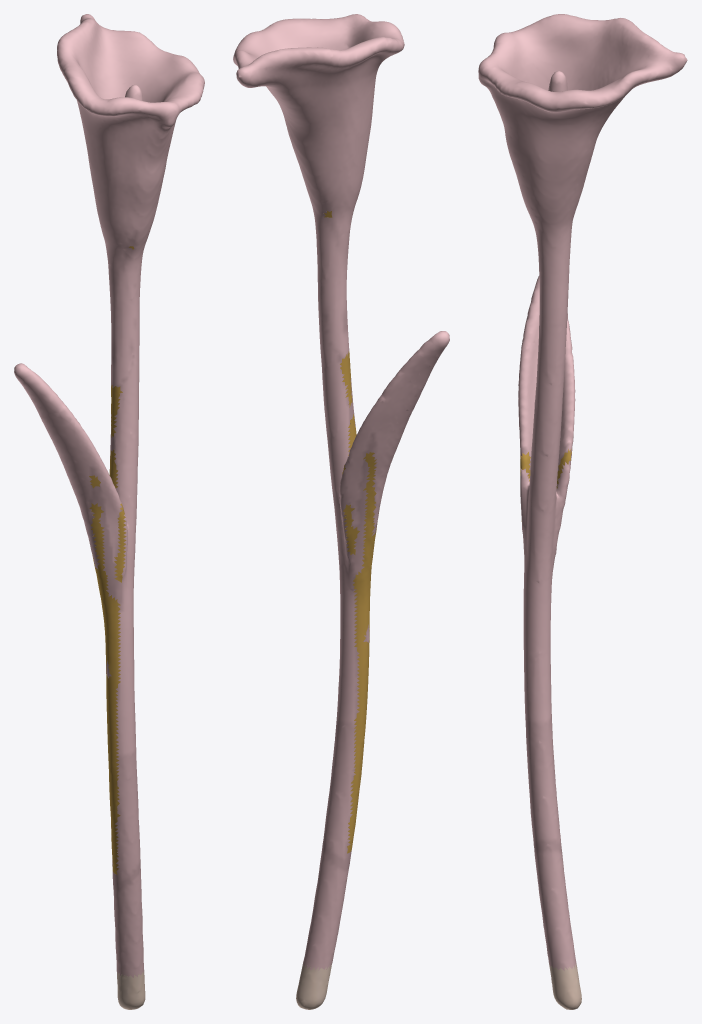
File: rum-ai.glb
The picture shows the model from 3 angles, left to right: view 1: azimuth 30°, elevation 25°; view 2: azimuth 150°, elevation 25°; view 3: azimuth 270°, elevation 25°; orthographic projection. The views are drawn at different scales.
Visible parts, largest first — view 1: petal, stamen, stem; view 2: petal, stamen, stem; view 3: petal, stem.
Boxes of the visible parts, x1,y1,x2,y2 form: petal: (14, 14, 204, 977); stamen: (89, 246, 134, 874); stem: (117, 970, 145, 1009); petal: (233, 14, 449, 970); stamen: (324, 211, 378, 853); stem: (296, 962, 331, 1009); petal: (478, 14, 687, 970); stem: (549, 963, 581, 1009).
Size of the model in its own units: 0.4067 by 1.99 by 0.3887.
